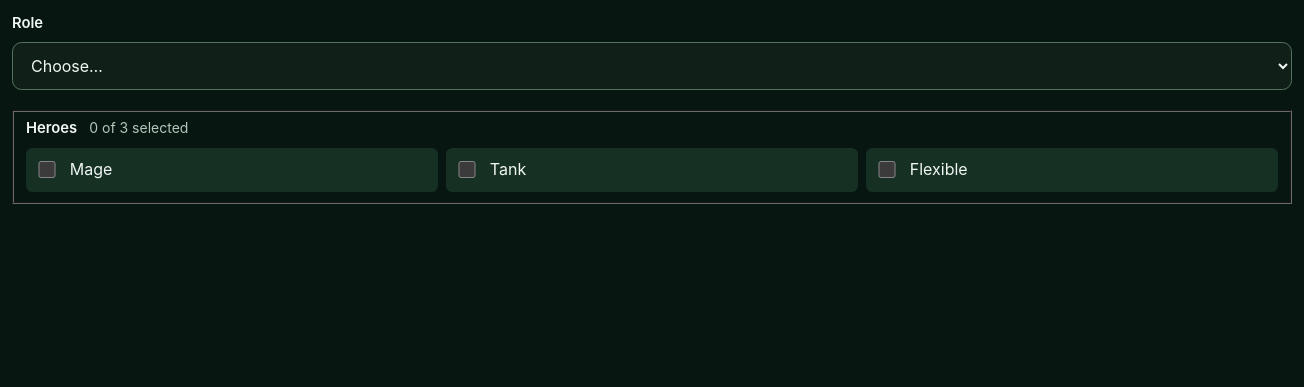
Test: clearing an explicit role returns to inferred behavior without losing a server-required match
Select "Mid lane" in the dropdown labelled "Role" at (652, 66), box [12,42,1292,90]
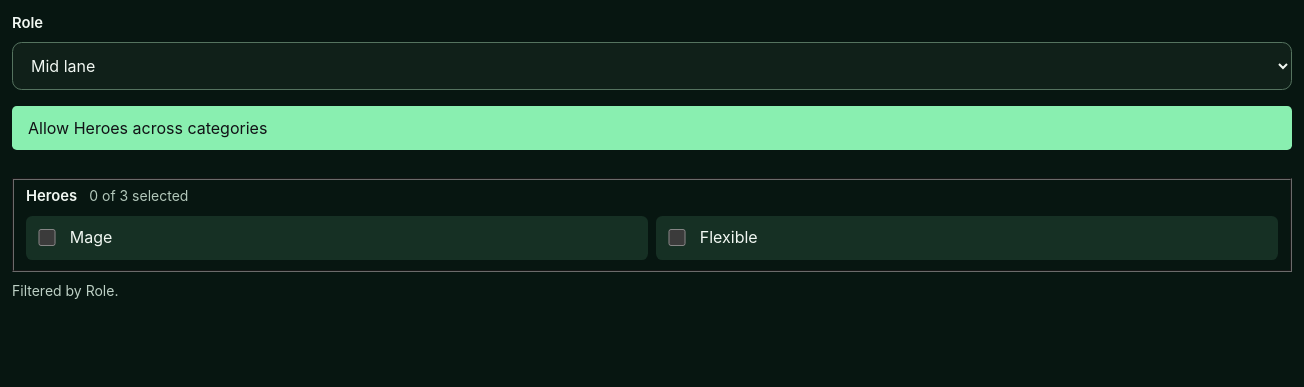
Click the checkbox labelled "Mage" at (47, 238), box [38,229,56,246]
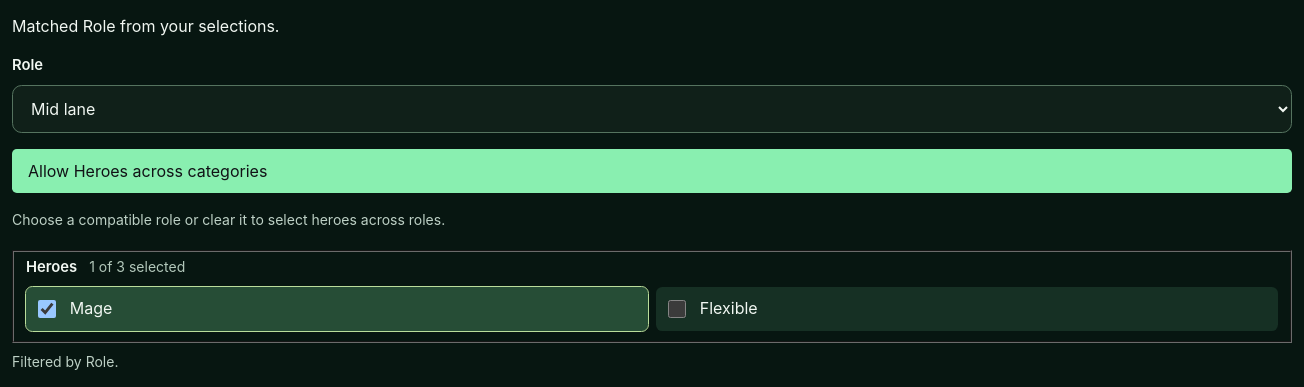
Select "Choose…" in the dropdown labelled "Role" at (652, 109), box [12,85,1292,133]
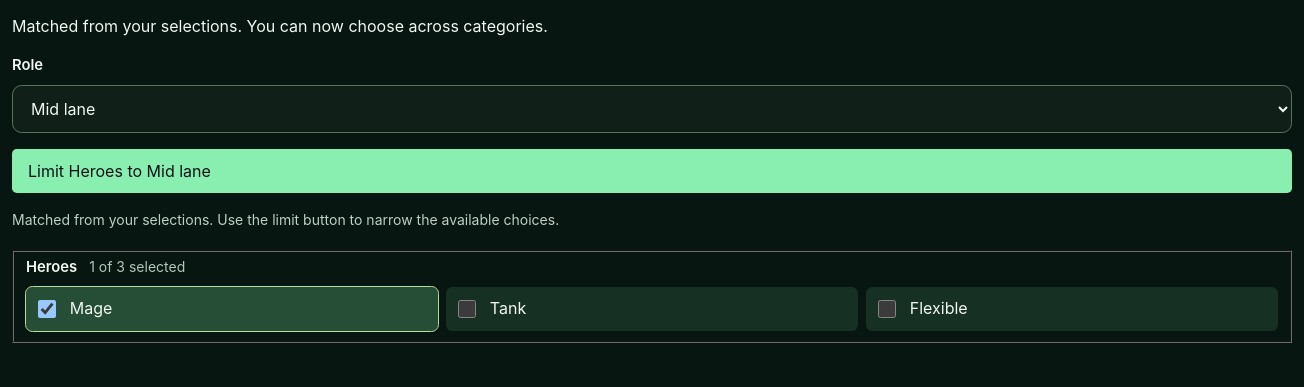
Expected: the checkbox labelled "Tank" is shown
Expected: the message shows "choose across categories", [12,16,548,36]
Click the checkbox labelled "Tank" at (467, 309), box [458,300,476,318]
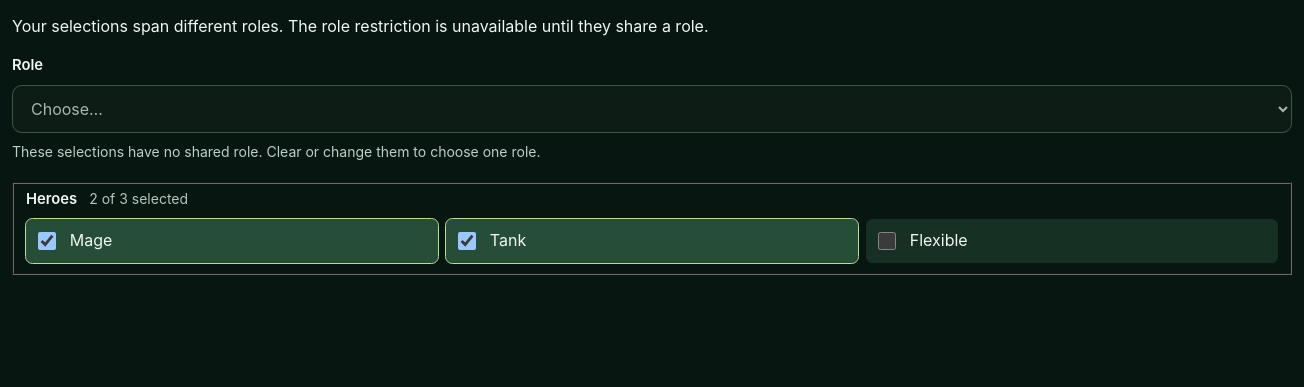
Expected: the dropdown labelled "Role" is disabled, [12,85,1292,133]
